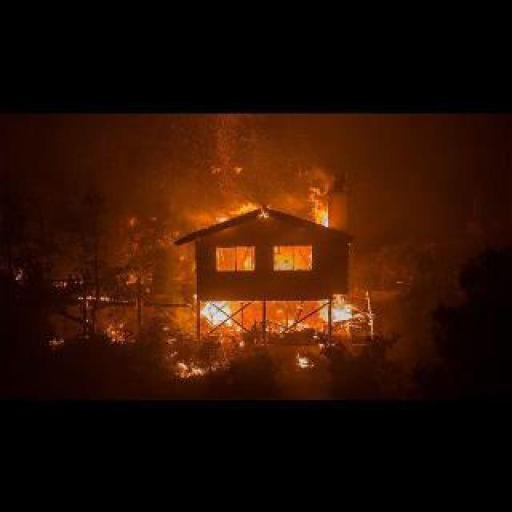smoke: (216, 182, 331, 270), (200, 294, 376, 342)
